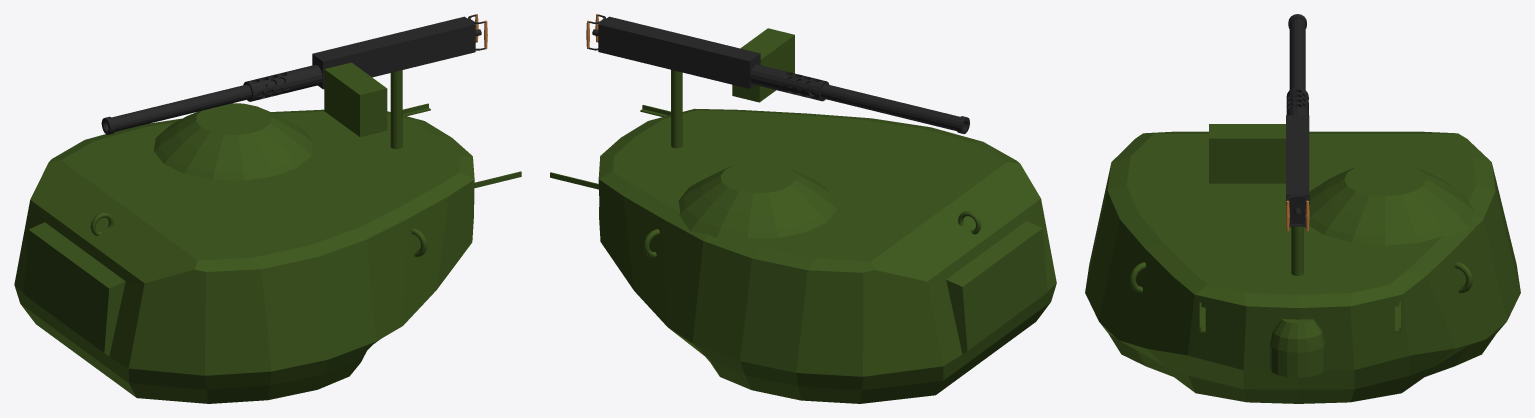
File: JamboBashnya.fbx
The picture shows the model from 3 angles, left to right: view 1: azimuth 30°, elevation 25°; view 2: azimuth 150°, elevation 25°; view 3: azimuth 270°, elevation 25°; orthographic projection. The views are drawn at different scales.
Parts seen in each view (by area): view 1: MainБашня.001, Cylinder, Cube.003, Cube.004, Cylinder.005, Cylinder.003, Cylinder.008, Cube.008; view 2: MainБашня.001, Cylinder, Cube.003, Cylinder.005, Cube.004, Cylinder.003, Cylinder.008, Cube.008; view 3: MainБашня.001, Cylinder, Cube.004, Cube.003, Cylinder.005, Cylinder.008, Cylinder.003, Torus.
Boxes of the visible parts, x1,y1,x2,y2 form: MainБашня.001: (14, 109, 474, 403); Cylinder: (154, 103, 313, 180); Cube.003: (312, 16, 475, 89); Cube.004: (324, 62, 387, 137); Cylinder.005: (101, 75, 288, 134); Cylinder.003: (243, 64, 322, 101); Cylinder.008: (390, 70, 402, 149); Cube.008: (402, 103, 521, 188); MainБашня.001: (598, 108, 1056, 403); Cylinder: (678, 161, 837, 238); Cube.003: (598, 16, 760, 88); Cylinder.005: (782, 75, 969, 133); Cube.004: (732, 28, 794, 102); Cylinder.003: (750, 64, 829, 101); Cylinder.008: (671, 70, 682, 148); Cube.008: (550, 105, 670, 189); MainБашня.001: (1085, 131, 1520, 403); Cylinder: (1309, 162, 1474, 245); Cube.004: (1209, 124, 1285, 183); Cube.003: (1286, 115, 1309, 224); Cylinder.005: (1288, 14, 1306, 107); Cylinder.008: (1291, 226, 1303, 275); Cylinder.003: (1286, 87, 1308, 115); Torus: (1129, 262, 1472, 293).
Bounding box in the file's own units: 134 × 75.42 × 112.
